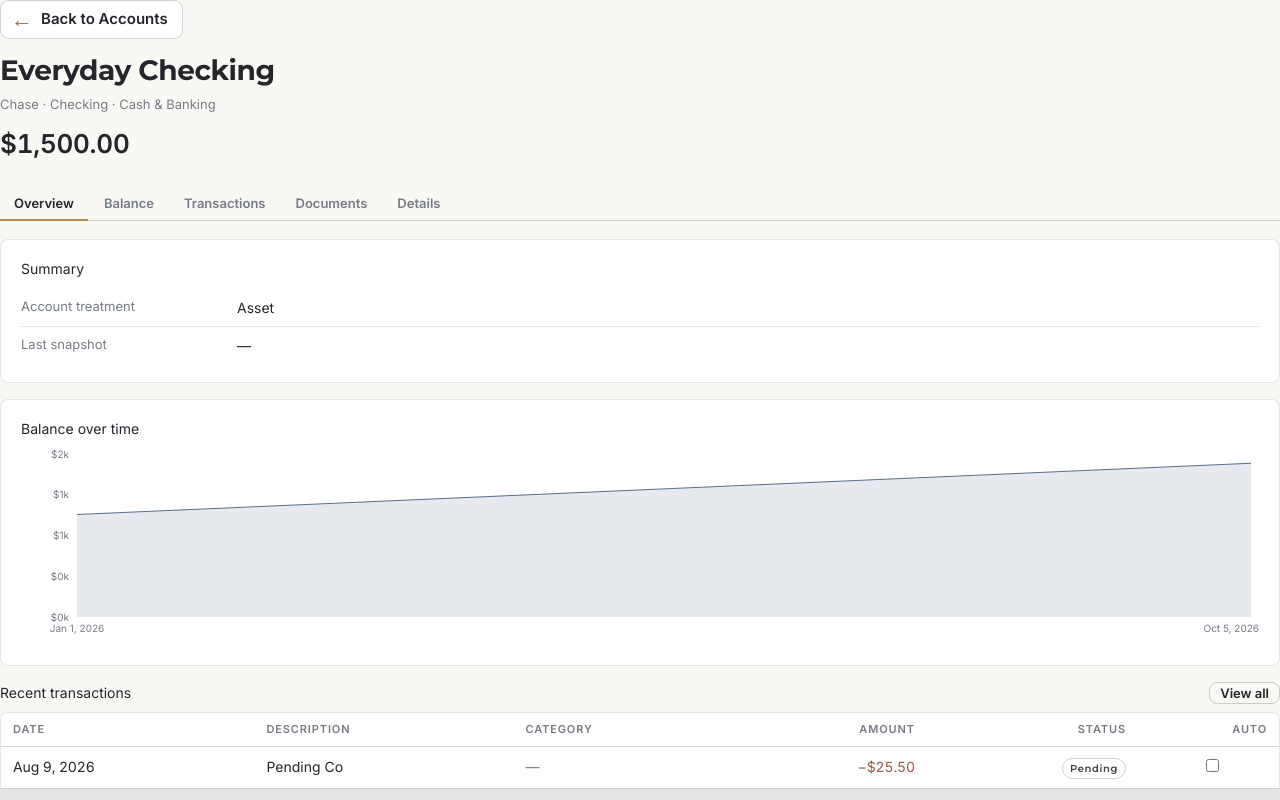
Test: AccountDetail › lists recent transactions and jumps to the full tab
Expected: the text "Pending Co" is shown, x1=254 y1=746 x2=513 y2=788
Step 1. Click the button "View all" → x=1245, y=693, box x1=1209 y1=682 x2=1279 y2=704
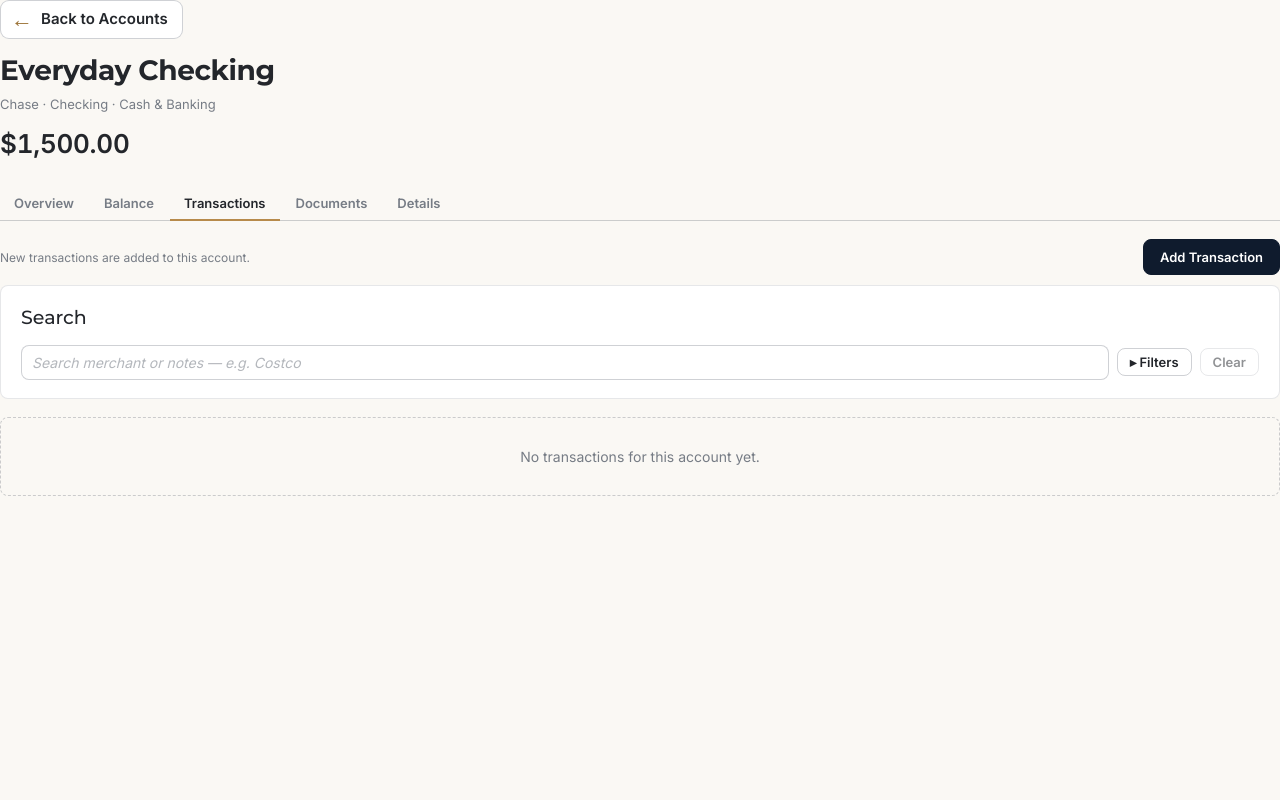
Now the text "New transactions are added to this account." is shown, box x1=0 y1=249 x2=250 y2=267
